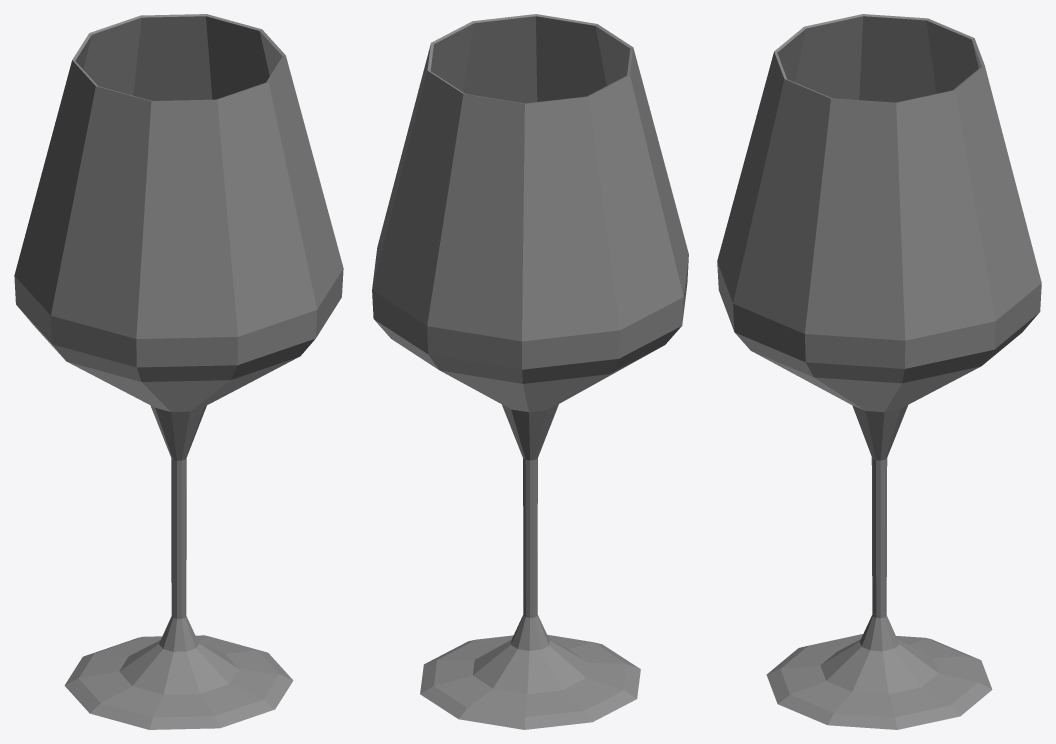
The model's file is Glass.fbx.
The picture shows the model from 3 angles, left to right: view 1: azimuth 30°, elevation 25°; view 2: azimuth 150°, elevation 25°; view 3: azimuth 270°, elevation 25°; orthographic projection.
Parts seen in each view (by area): view 1: Glass; view 2: Glass; view 3: Glass.
Part boxes in pixels (x1=…): Glass: x1=14, y1=14, x2=343, y2=729; Glass: x1=372, y1=14, x2=688, y2=729; Glass: x1=717, y1=14, x2=1041, y2=729.
Size of the model in its own units: 14.06 by 29.8 by 14.06.
